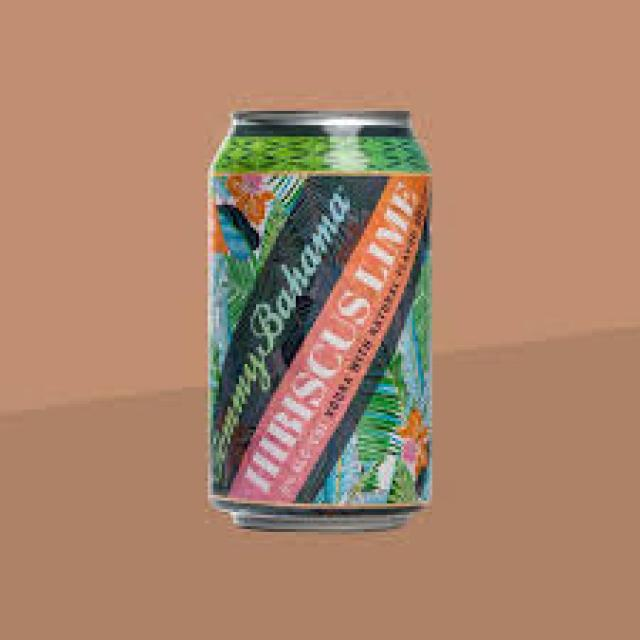Cans: (196, 96, 449, 538)
